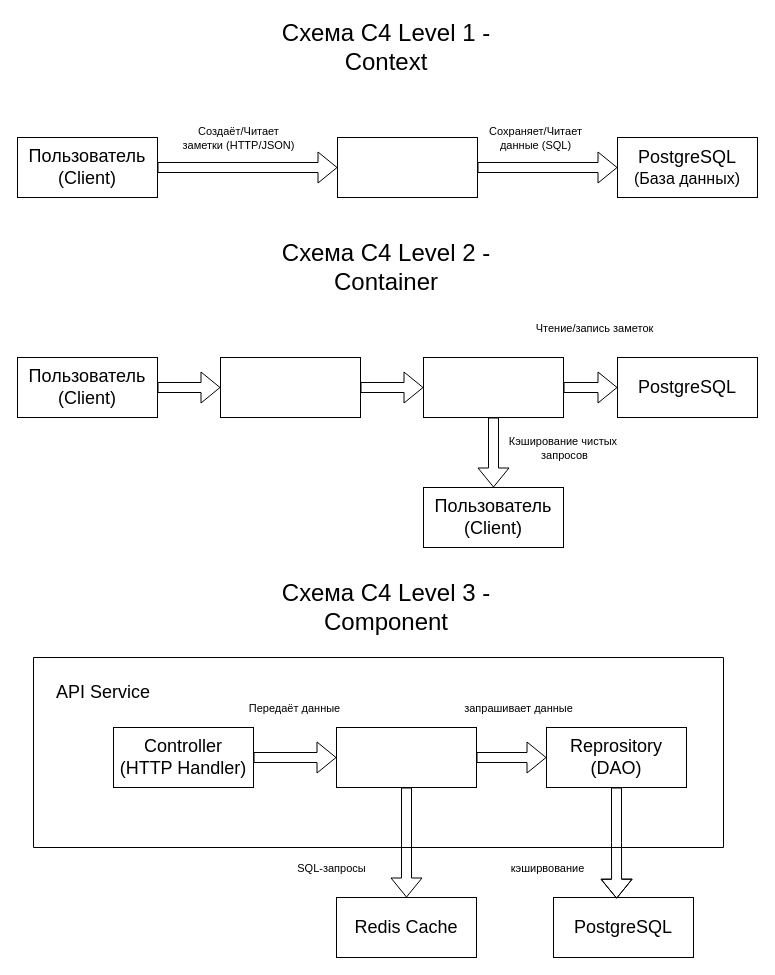
The diagram is 775 pixels wide and 975 high, and some of its shapes have lost their labels. Here are the shapes that lost their labels. From the top down, the centre of each, then its label:
At pixel 407 167: "Сервис заметок (Notes service)".
At pixel 290 387: "API Gateway / Load Balancer".
At pixel 493 387: "API Service (Java)".
At pixel 406 757: "Service (Business Logic)".
